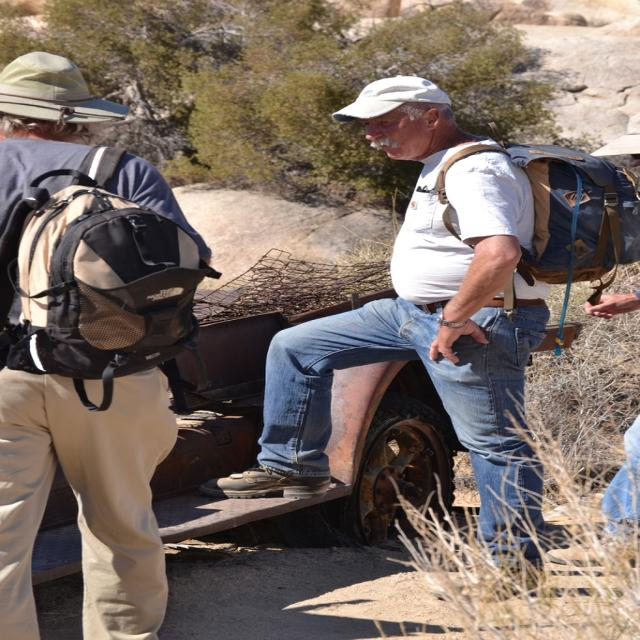backpack: (5, 142, 188, 384), (413, 131, 639, 277)
